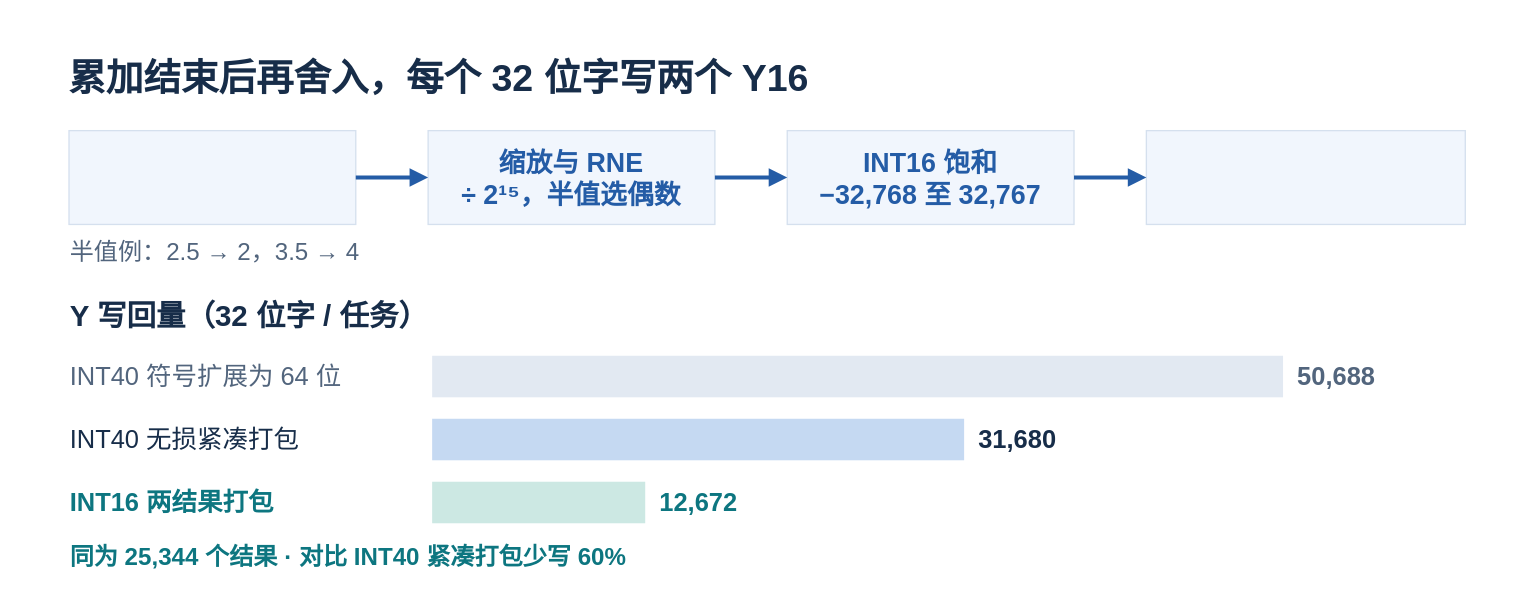
This 1533x608 diagram has some shape labels left out. The shapes that lost their labels are listed below. From the top down, each one's centre as x and y in pixels, then its label:
At (x=212, y=176): "ACC40 保留 64 项乘积与偏置".
At (x=1305, y=176): "一字两结果 [下一列 | 偶数列]".
